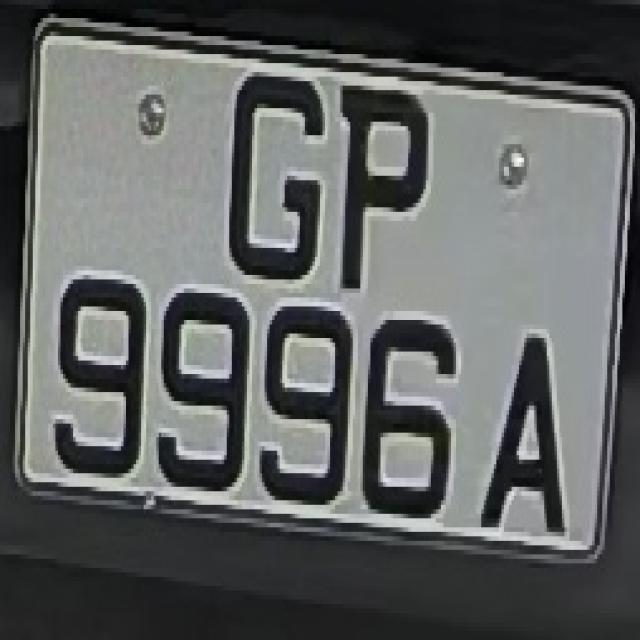6: (355, 324, 466, 536)
9: (151, 261, 260, 514), (55, 252, 148, 505), (264, 288, 358, 528)
A: (486, 302, 567, 554)
G: (219, 50, 328, 306)
P: (330, 59, 439, 293)
